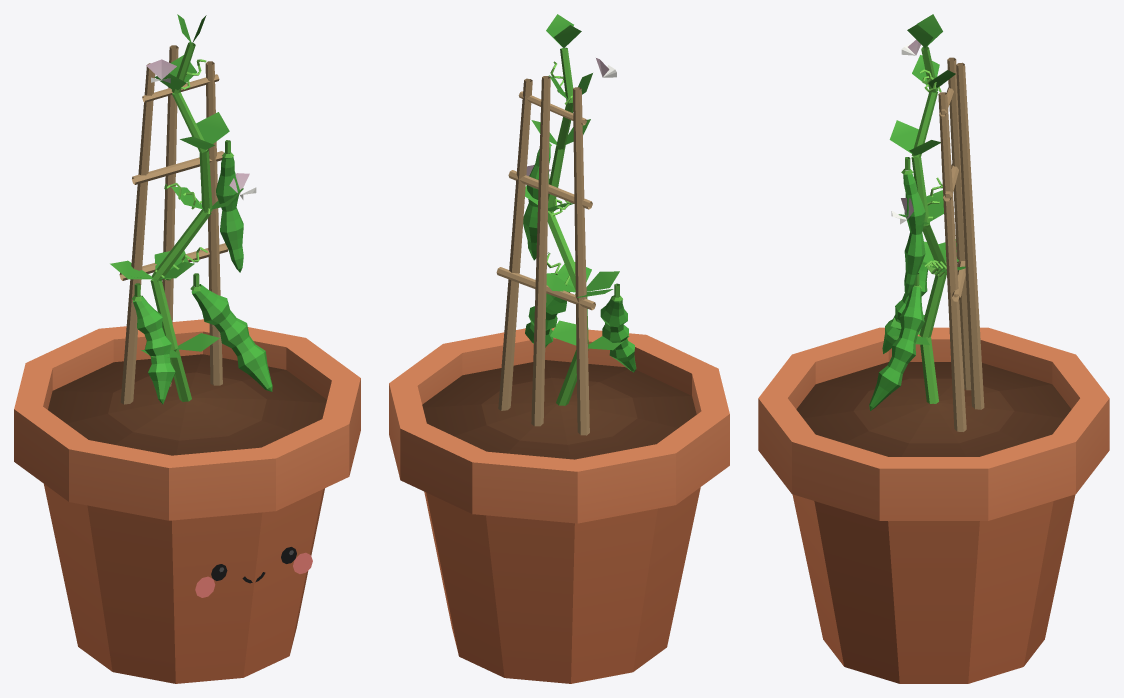
The model's file is cute_pea_stage4.glb.
3 views of the same model, side by side, from view 1: azimuth 30°, elevation 25°; view 2: azimuth 150°, elevation 25°; view 3: azimuth 270°, elevation 25° (orthographic).
Visible parts, largest first — view 1: PeaPlant; view 2: PeaPlant; view 3: PeaPlant.
Boxes of the visible parts, box(x1,y1,x2,y2) form: PeaPlant: box(14, 14, 360, 683); PeaPlant: box(389, 14, 729, 683); PeaPlant: box(758, 14, 1109, 683).
Size of the model in its own units: 0.3766 by 0.7715 by 0.396.
